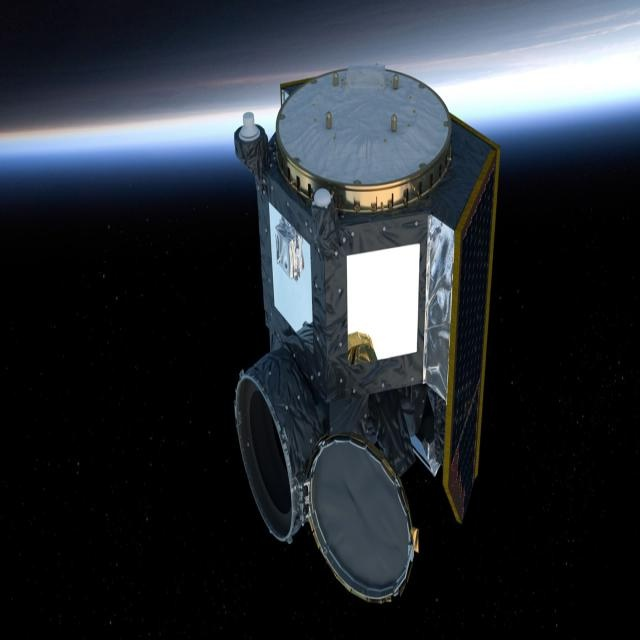medium_debris: (225, 51, 504, 621)
